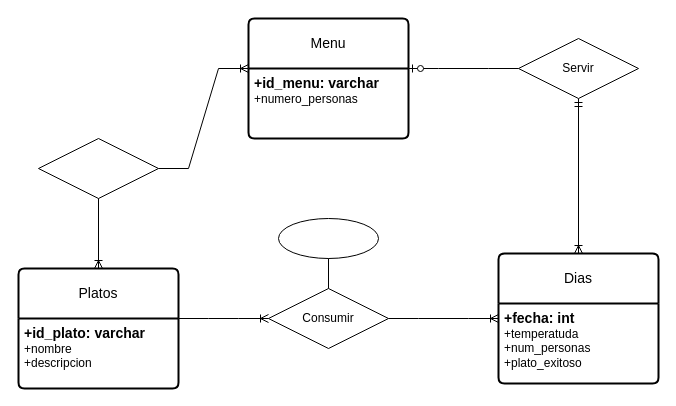
Image size: 676x406. Some labels were removed from this diagram. The centre of each missing label's shape, as x and y in pixels:
"Cant. Platos" belongs at [328,238].
"Tener" belongs at [98,168].
